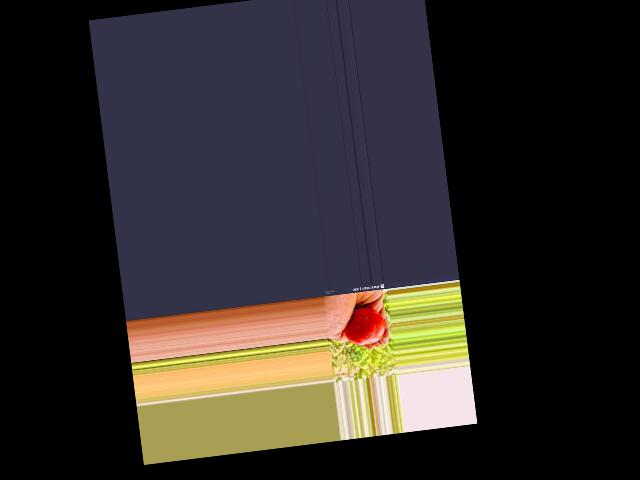tomato: (341, 305, 386, 346)
